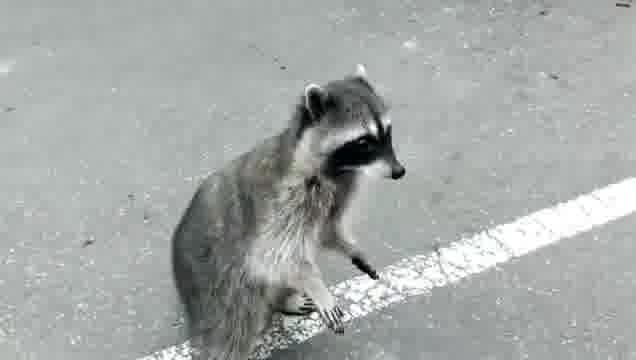raccoon: (167, 67, 409, 360)
